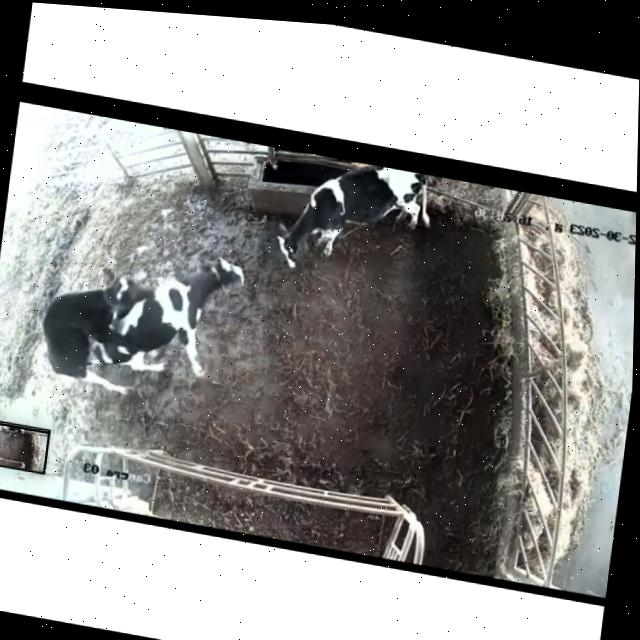ride: (25, 244, 166, 414)
